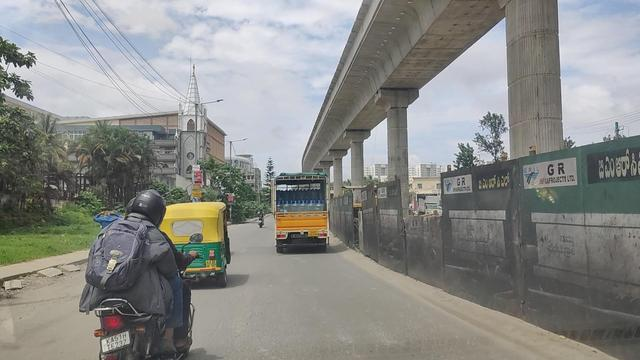HMV: (272, 167, 333, 257)
LMV: (70, 184, 193, 360), (139, 196, 229, 295)
